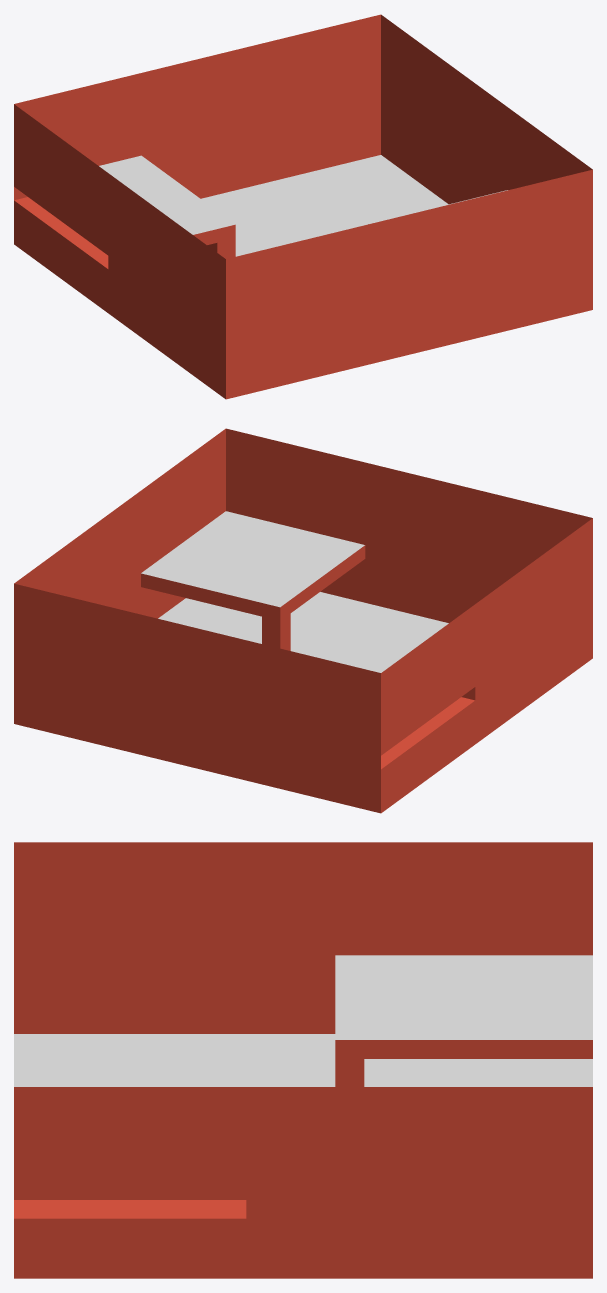
File: room01.fbx
3 renders of one model, top to bottom at view 1: azimuth 30°, elevation 25°; view 2: azimuth 150°, elevation 25°; view 3: azimuth 270°, elevation 25°, orthographic. The views are drawn at different scales.
Visible parts, largest first — view 1: 평면; view 2: 평면; view 3: 평면.
Boxes of the visible parts, x1=… form: 평면: x1=14, y1=14, x2=592, y2=399; 평면: x1=14, y1=428, x2=592, y2=813; 평면: x1=14, y1=842, x2=592, y2=1278.
Bounding box in the file's own units: 40 × 14.61 × 40.
